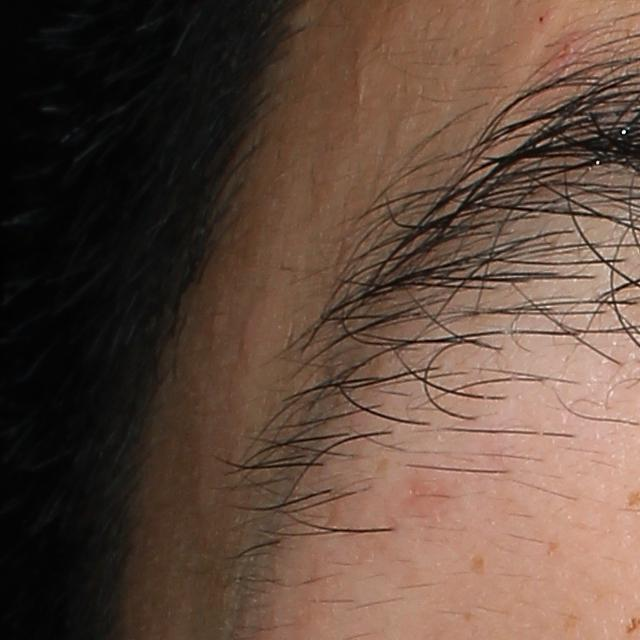melasma: (470, 551, 485, 577)
